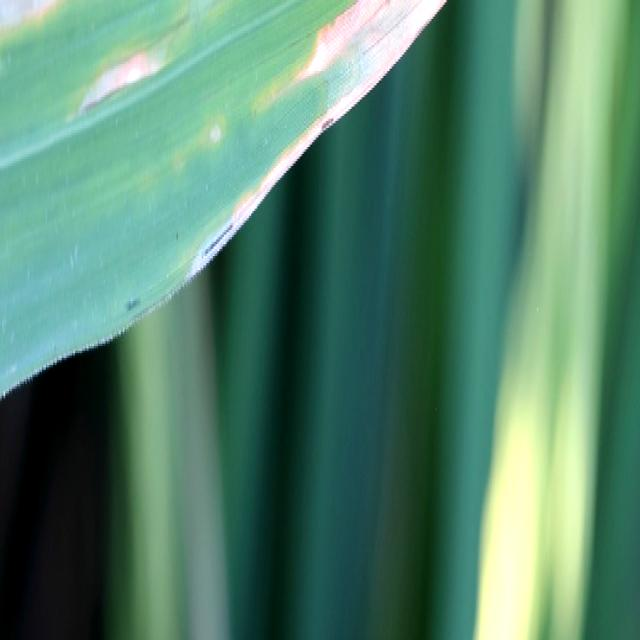BLB: (232, 0, 443, 232), (0, 0, 62, 31)
